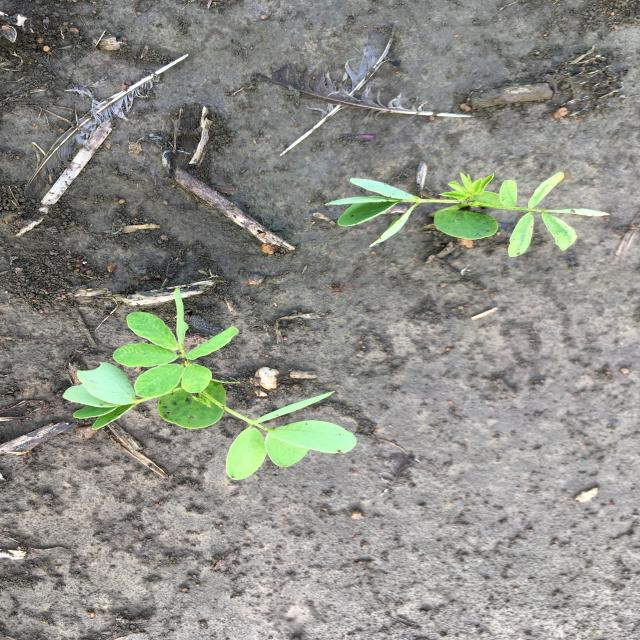Sicklepod: (61, 286, 360, 482), (320, 170, 613, 260)
